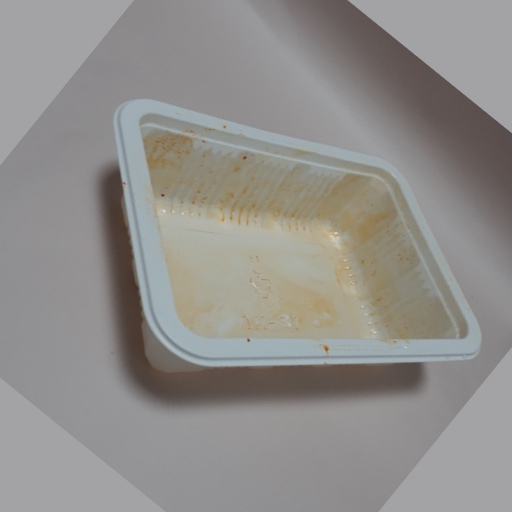Plastic_4: (114, 96, 483, 377)
